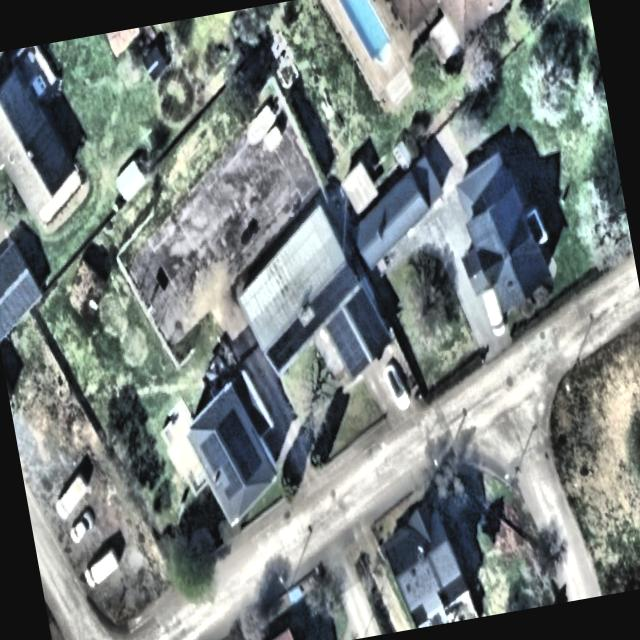roof_pv: (342, 282, 394, 363), (326, 308, 372, 381), (260, 311, 312, 374), (226, 441, 269, 484), (215, 404, 255, 448), (306, 276, 340, 322), (330, 257, 362, 301), (197, 429, 230, 471), (218, 464, 245, 504), (304, 314, 322, 336)
